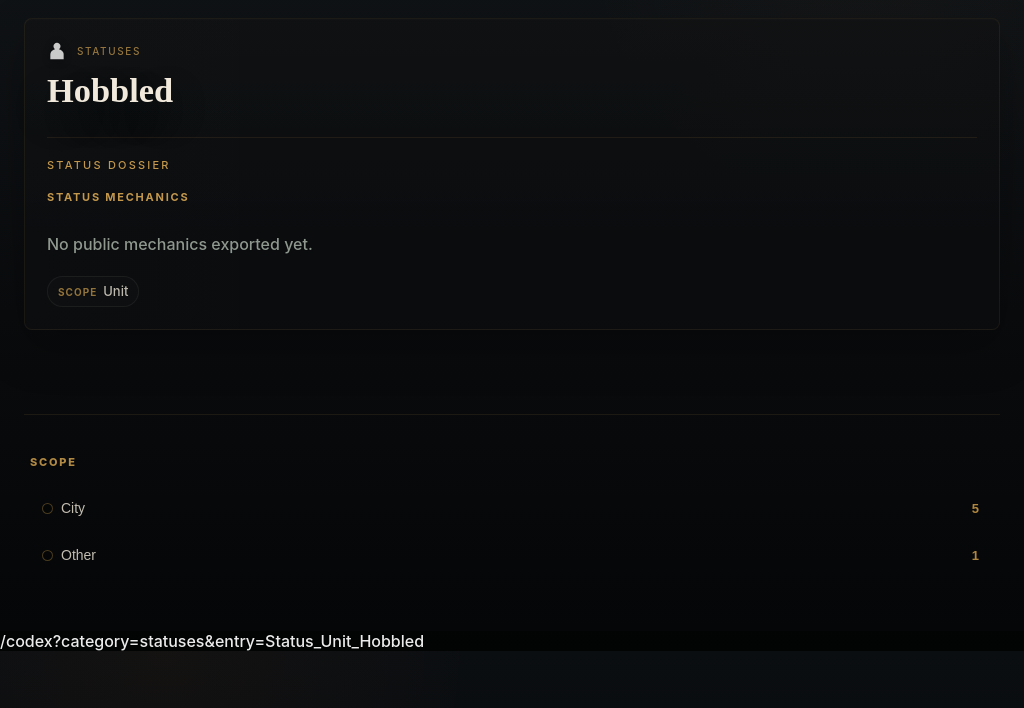
Test case: CodexPage status archive › returns from Status detail routes to the Status archive when Scope filters change
The width and height of the screenshot is (1024, 708).
Check: the heading "Hobbled" is shown, box [47, 71, 173, 109]
Click the button "City 5" at {"x": 73, "y": 508}, box [30, 486, 990, 530]
(page scrolled)
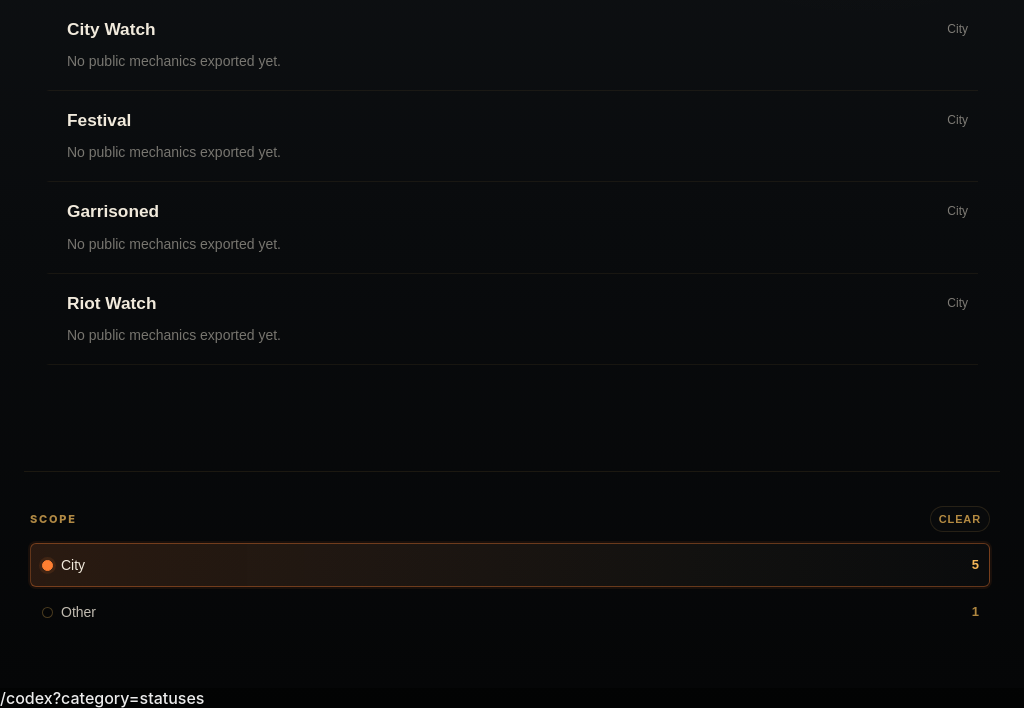
Check: the text with test id "location-probe" reads "/codex?category=statuses", box [0, 688, 204, 707]
Check: the text "Hobbled" is gone
Click the button "Clear" at {"x": 960, "y": 519}, box [930, 506, 990, 532]
(page scrolled)
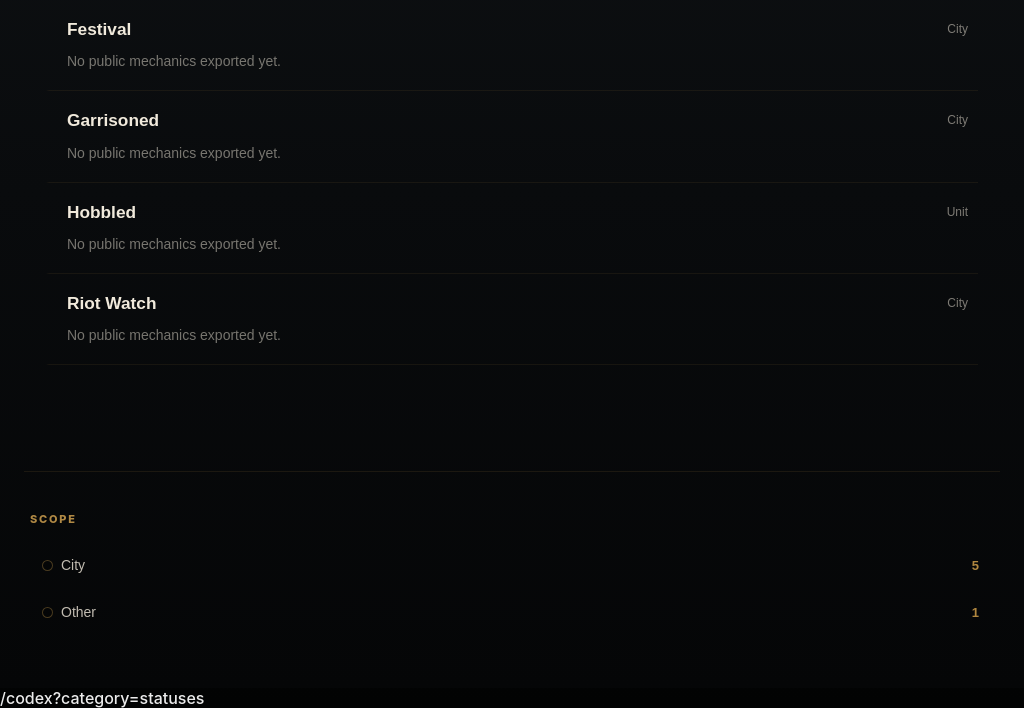
Check: the text with test id "location-probe" reads "/codex?category=statuses", box [0, 688, 204, 707]
Check: the button "Hobbled Unit No public mechanics exported yet." is shown, box [46, 183, 978, 274]
